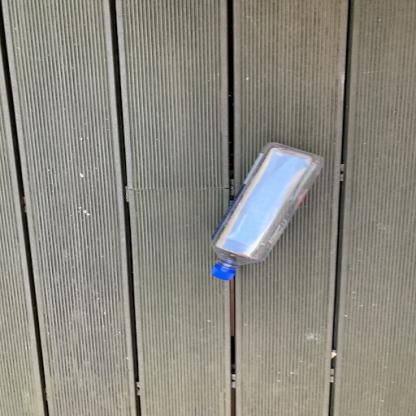trash: (210, 142, 325, 287)
